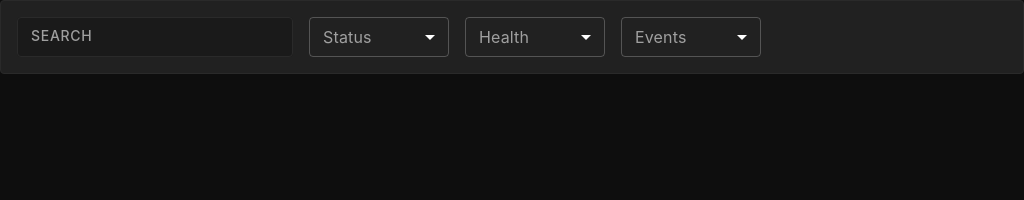
Scenario: RealmsFilters › should render health filter options
Click the dropdown next to "Health" at (535, 37), box x1=465 y1=17 x2=605 y2=57
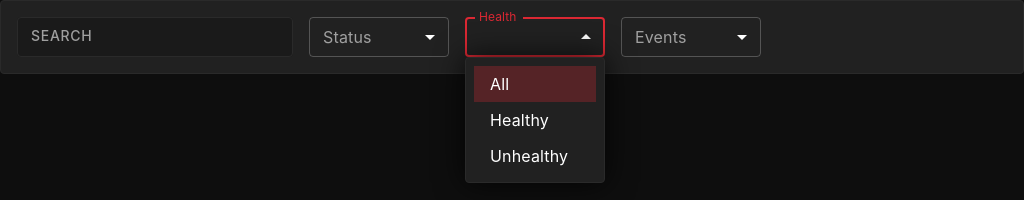
expect the option "Healthy" is shown: met, box x1=490 y1=110 x2=549 y2=130
expect the option "Unhealthy" is shown: met, box x1=490 y1=146 x2=568 y2=166
